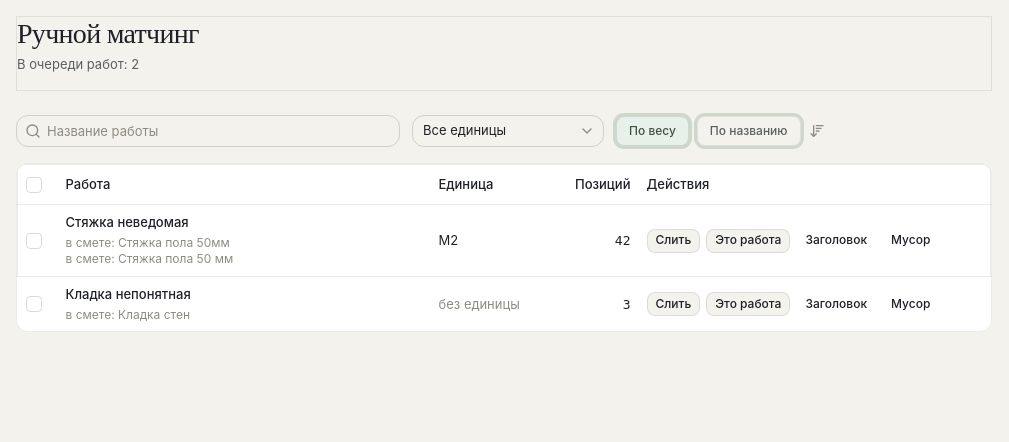
Test case: Пакетная разметка (решение §6.5) › «выбрать все» отмечает всю страницу
This screenshot has width=1009, height=442.
Check: the text "Стяжка неведомая" is shown, box top-left (66, 214), bottom-right (189, 230)
Click the checkbox named "Выбрать все строки на странице" at (34, 185), box top-left (26, 177), bottom-right (42, 193)
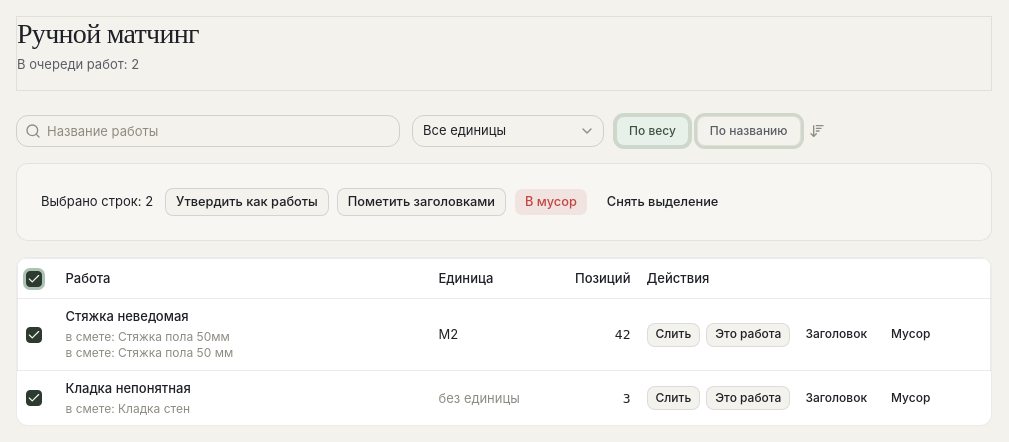
Check: the text "Выбрано строк: 2" is shown, box top-left (41, 192), bottom-right (153, 212)
